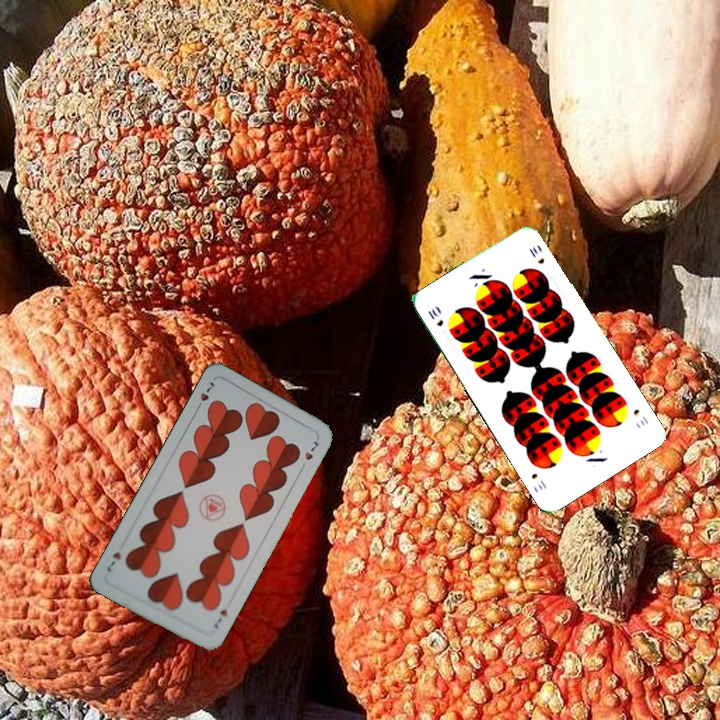H7: (192, 377, 217, 414), (209, 605, 230, 631)
S10: (424, 304, 446, 329), (629, 405, 651, 428)
